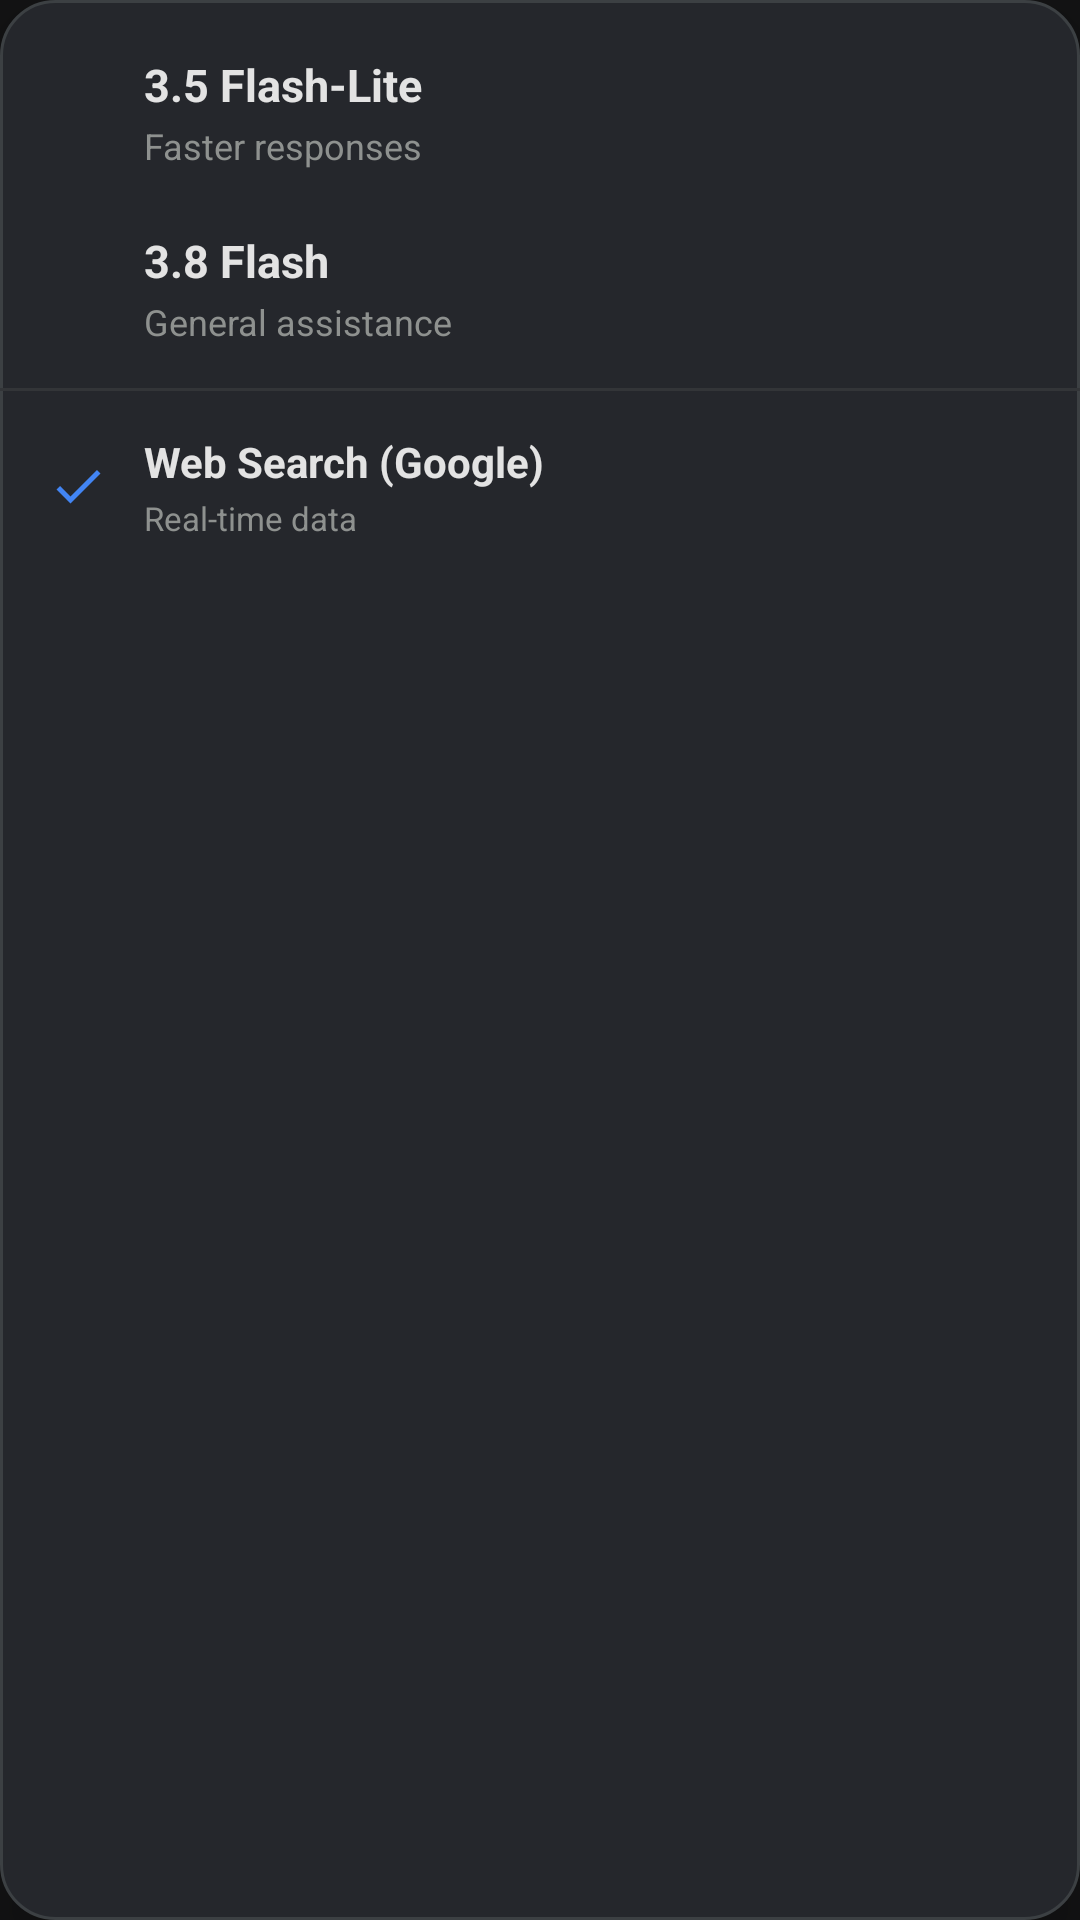

Screen size 1080px x 1920px. Icon name, then its box in pixels as [x1, y1, x2, y2]:
check: [56, 470, 101, 504]
